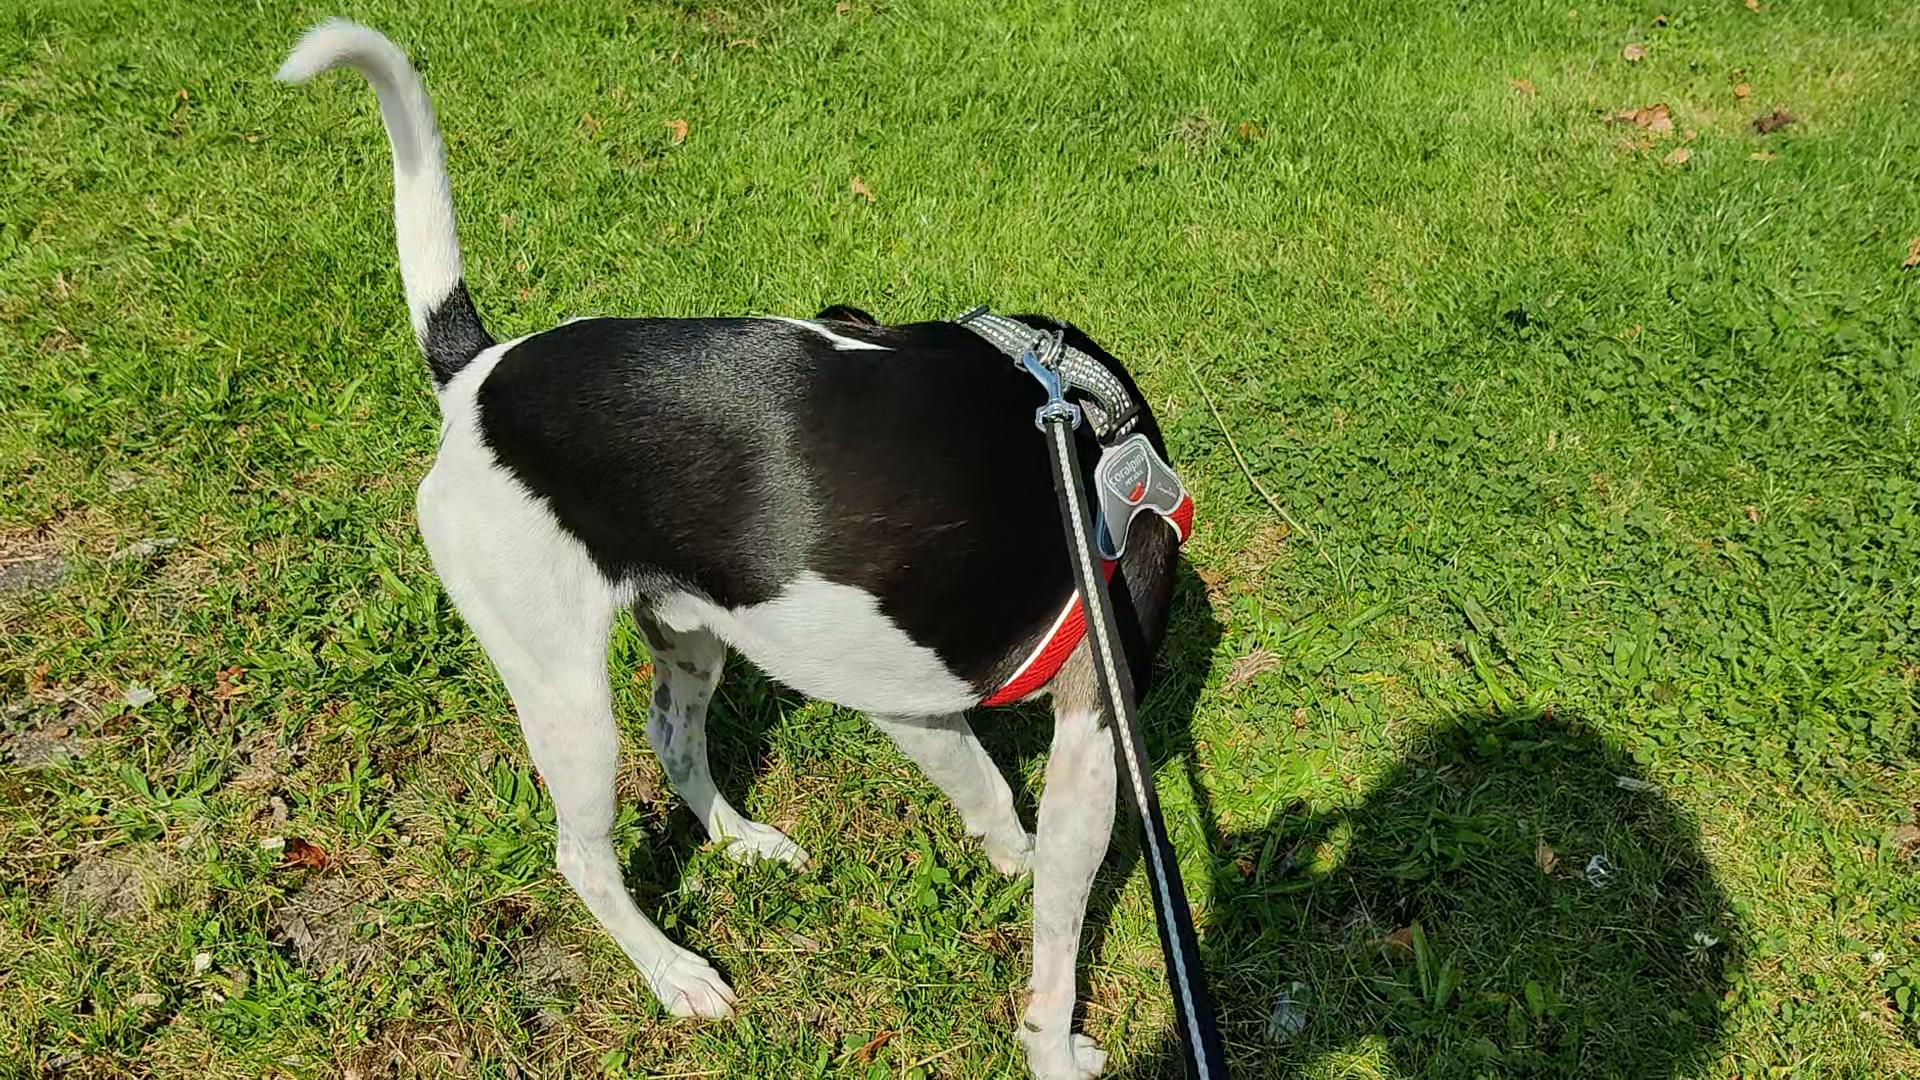Dog: (268, 16, 1199, 1079)
